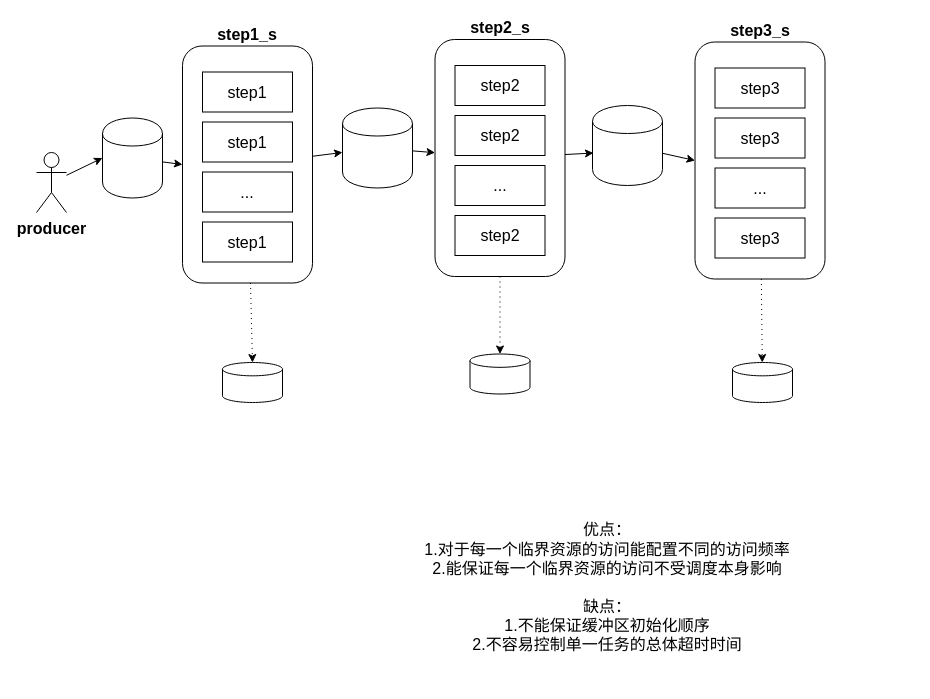
Image size: 930x699. Some labels were removed from this diagram. The centre of each missing label's shape, as x and y in pixels:
buffers: the point at 132,157
buffers1: the point at 377,147
buffers2: the point at 627,145
资源1: the point at 252,382
资源2: the point at 499,373
资源3: the point at 762,382
